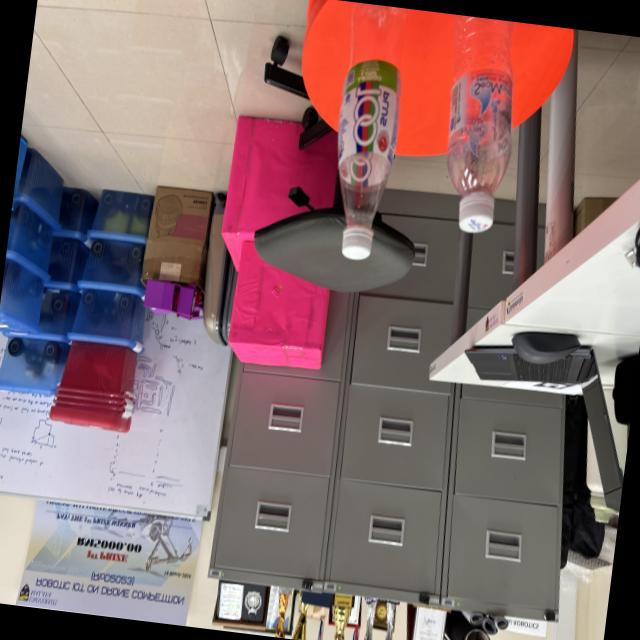plastic_bottle: (317, 2, 424, 270), (424, 14, 535, 248)
